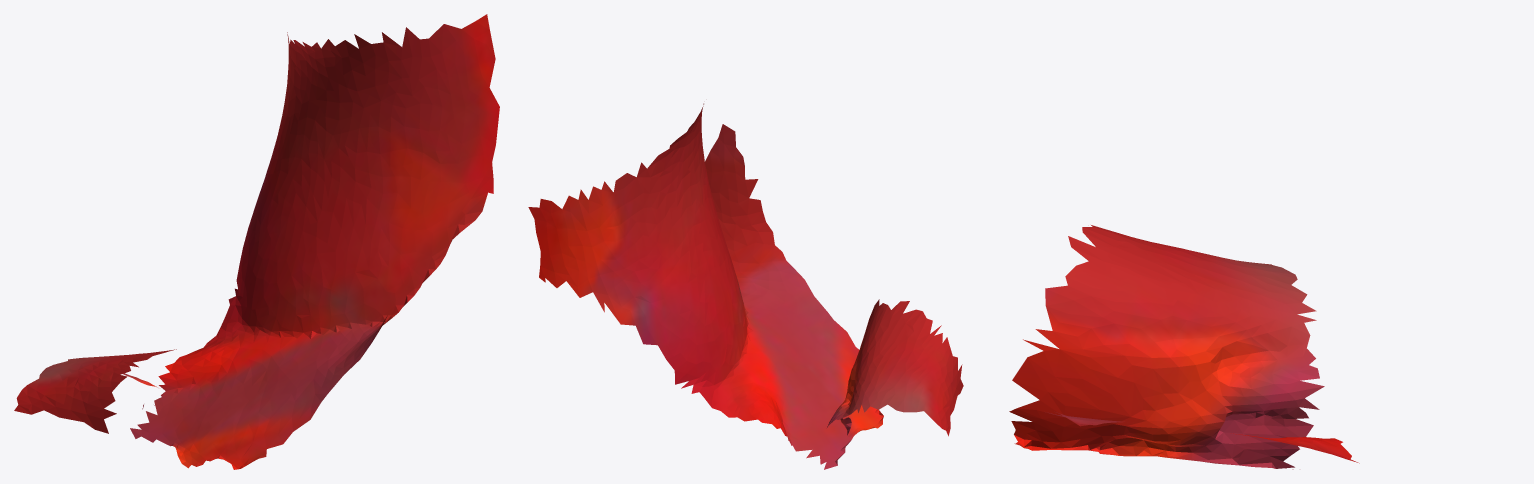
The picture shows the model from 3 angles, left to right: view 1: azimuth 30°, elevation 25°; view 2: azimuth 150°, elevation 25°; view 3: azimuth 270°, elevation 25°; orthographic projection. The views are drawn at different scales.
Parts seen in each view (by area): view 1: tripo_mesh_045d8eb0-72ec-4624-9759-a425f321d17a; view 2: tripo_mesh_045d8eb0-72ec-4624-9759-a425f321d17a; view 3: tripo_mesh_045d8eb0-72ec-4624-9759-a425f321d17a.
Boxes of the visible parts, x1,y1,x2,y2 form: tripo_mesh_045d8eb0-72ec-4624-9759-a425f321d17a: (14, 14, 499, 469); tripo_mesh_045d8eb0-72ec-4624-9759-a425f321d17a: (528, 103, 963, 469); tripo_mesh_045d8eb0-72ec-4624-9759-a425f321d17a: (1009, 225, 1359, 469).
Size of the model in its own units: 0.1882 by 0.1757 by 0.1357.
1 material, 1 textured.
